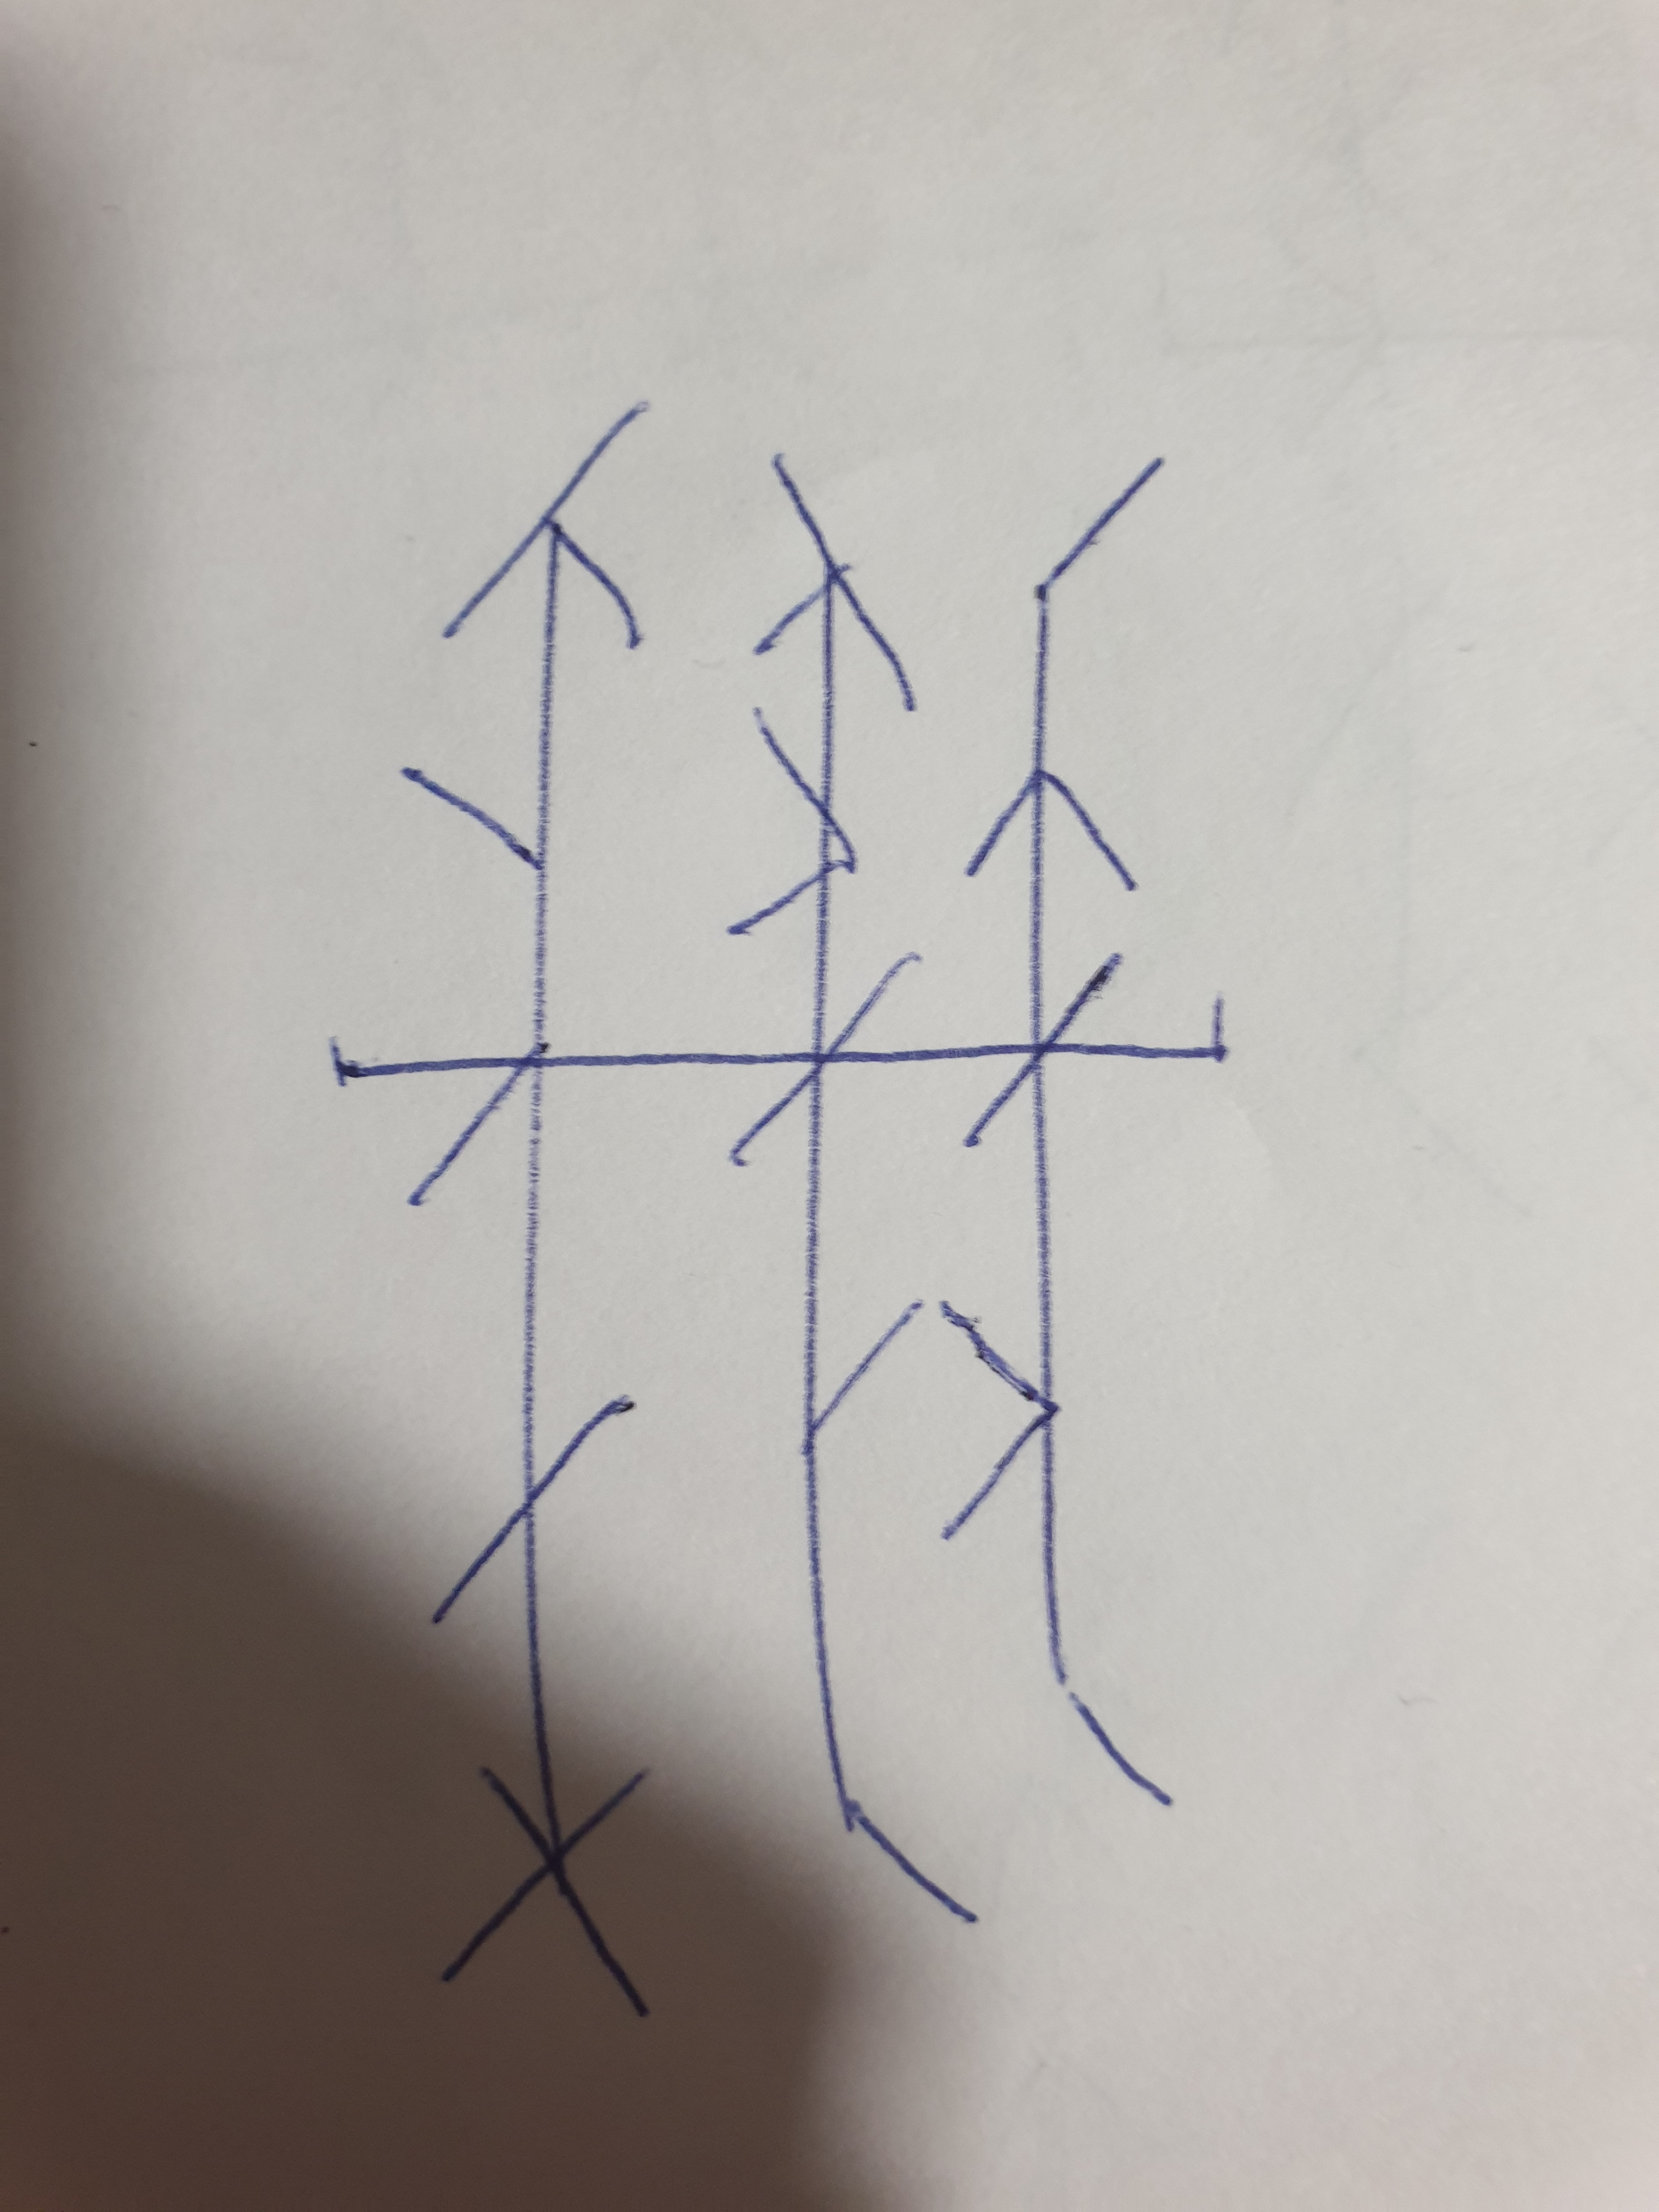Bar: (401, 401, 653, 2017), (727, 451, 979, 1926), (939, 458, 1175, 1810)
Barcode: (328, 401, 1229, 2017)
End: (1101, 995, 1229, 1062)
Start: (328, 1035, 500, 1087)
